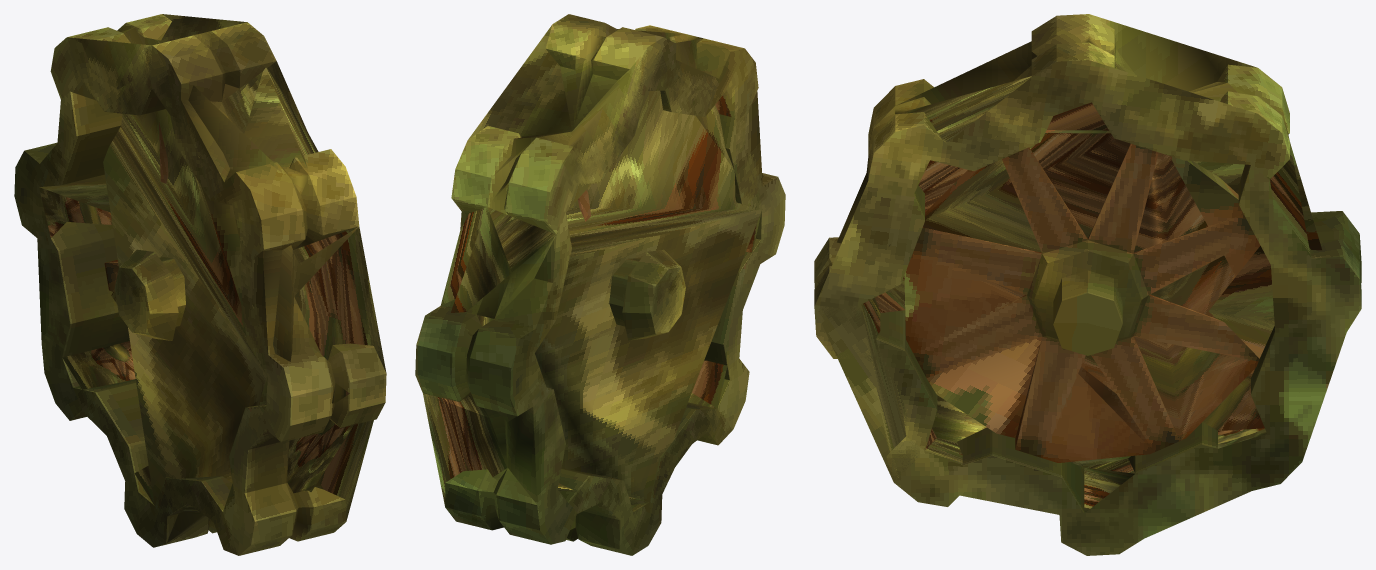
The model's file is item_steampunk_gear_wheels.glb.
The picture shows the model from 3 angles, left to right: view 1: azimuth 30°, elevation 25°; view 2: azimuth 150°, elevation 25°; view 3: azimuth 270°, elevation 25°; orthographic projection.
Visible parts, largest first — view 1: gearWheels; view 2: gearWheels; view 3: gearWheels.
Boxes of the visible parts, <box> form: gearWheels: <box>14,14,386,555</box>; gearWheels: <box>415,14,785,555</box>; gearWheels: <box>814,14,1361,555</box>.
Bounding box in the file's own units: 0.2123 × 0.6691 × 0.6691.
Materials: 1 (1 with a texture image).
